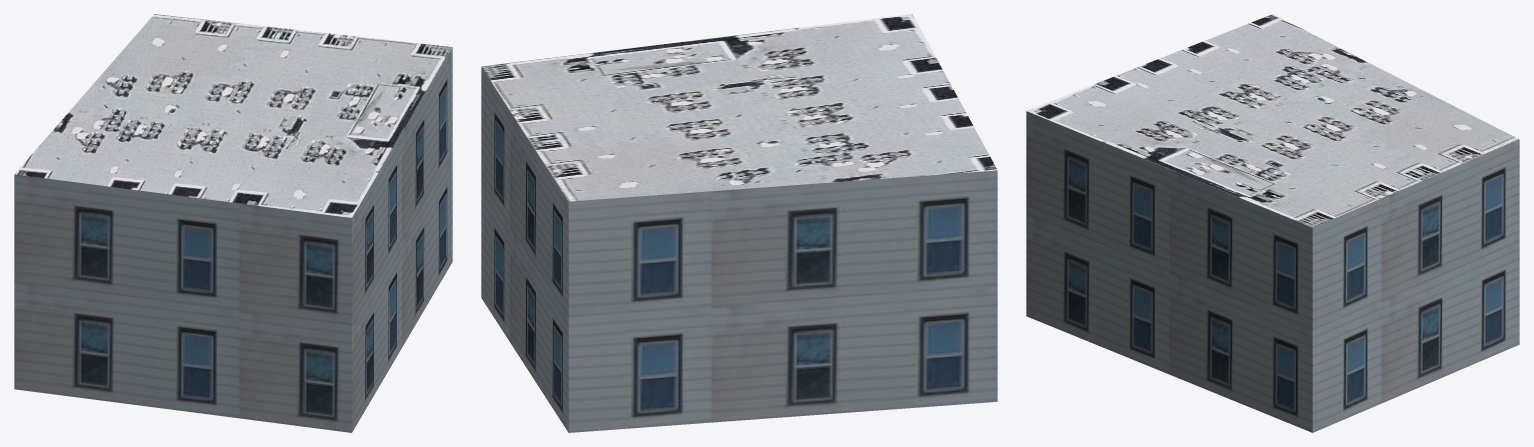
The model's file is ResTex__22.fbx.
The picture shows the model from 3 angles, left to right: view 1: azimuth 30°, elevation 25°; view 2: azimuth 150°, elevation 25°; view 3: azimuth 270°, elevation 25°; orthographic projection. The views are drawn at different scales.
Visible parts, largest first — view 1: CityEngineMaterial_18_m, CityEngineMaterial_4_m; view 2: CityEngineMaterial_18_m, CityEngineMaterial_4_m; view 3: CityEngineMaterial_18_m, CityEngineMaterial_4_m.
Boxes of the visible parts, x1=… form: CityEngineMaterial_18_m: x1=14, y1=47, x2=452, y2=432; CityEngineMaterial_4_m: x1=15, y1=14, x2=452, y2=217; CityEngineMaterial_18_m: x1=481, y1=67, x2=997, y2=432; CityEngineMaterial_4_m: x1=481, y1=14, x2=997, y2=201; CityEngineMaterial_18_m: x1=1026, y1=111, x2=1519, y2=432; CityEngineMaterial_4_m: x1=1026, y1=14, x2=1519, y2=227.
Size of the model in its own units: 13.41 by 6 by 13.08.
2 materials, 2 textured.
